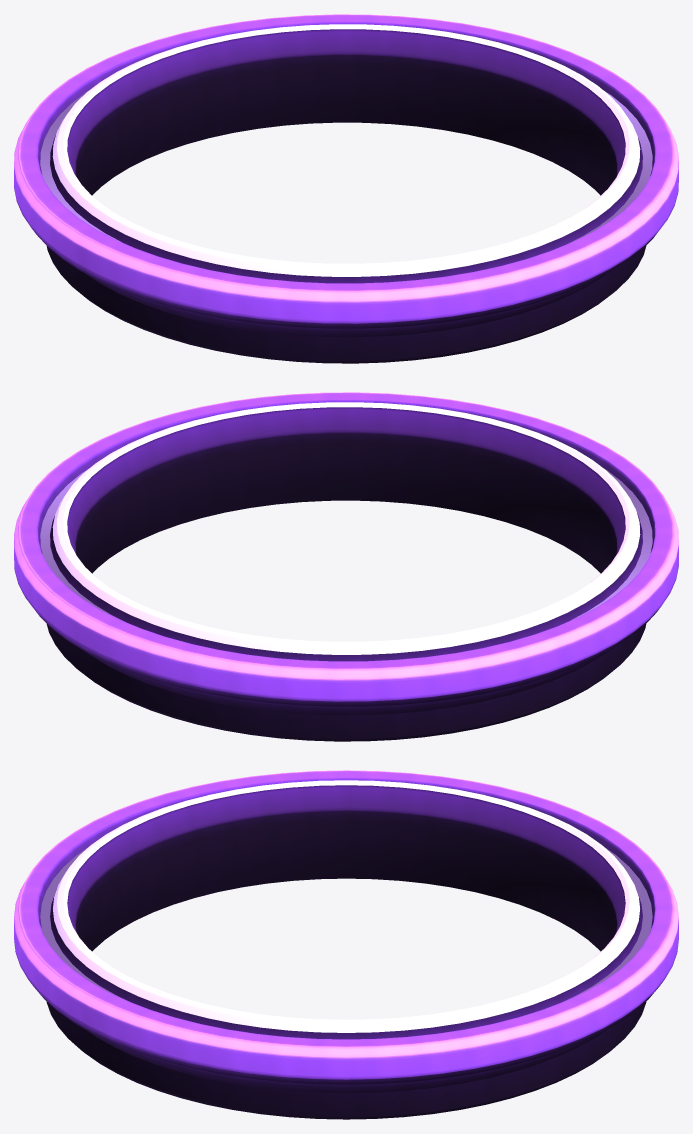
Rendered from Button_Frame_Cosmetics.glb.
The picture shows the model from 3 angles, top to bottom: view 1: azimuth 30°, elevation 25°; view 2: azimuth 150°, elevation 25°; view 3: azimuth 270°, elevation 25°; orthographic projection.
Visible parts, largest first — view 1: Frame_01_PurpleNeon; view 2: Frame_01_PurpleNeon; view 3: Frame_01_PurpleNeon.
Part boxes in pixels (x1=…): Frame_01_PurpleNeon: x1=14, y1=14, x2=678, y2=363; Frame_01_PurpleNeon: x1=14, y1=392, x2=678, y2=741; Frame_01_PurpleNeon: x1=14, y1=770, x2=678, y2=1119.
Size of the model in its own units: 1.92 by 0.3 by 1.92.
Materials: 54 (42 with a texture image).
